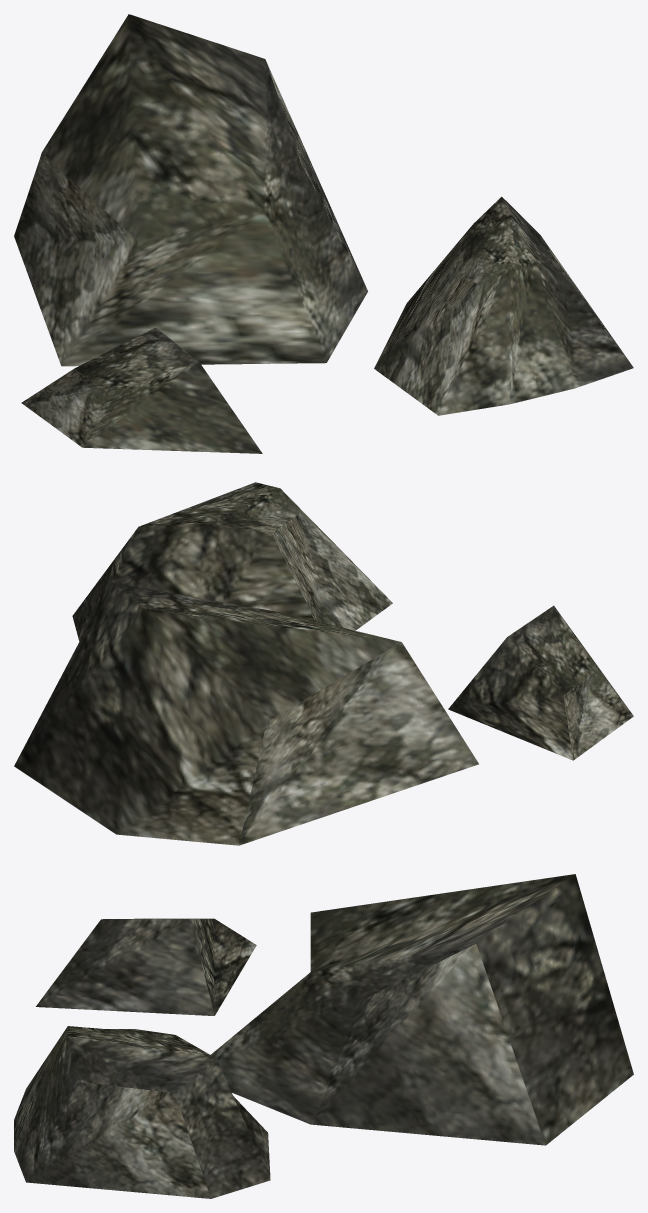
The model's file is doodad_rocks2.fbx.
3 views of the same model, one above another, from view 1: azimuth 30°, elevation 25°; view 2: azimuth 150°, elevation 25°; view 3: azimuth 270°, elevation 25° (orthographic).
Parts seen in each view (by area): view 1: body; view 2: body; view 3: body.
Boxes of the visible parts, x1,y1,x2,y2 form: body: (14,14,633,453); body: (14,482,633,845); body: (14,874,633,1198).
Size of the model in its own units: 2.85 by 1.05 by 2.94.
Materials: 1 (1 with a texture image).
